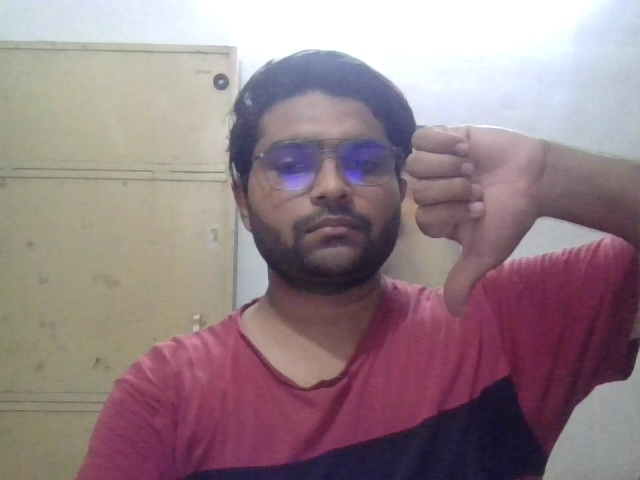ThumbsDown: (405, 125, 531, 322)
